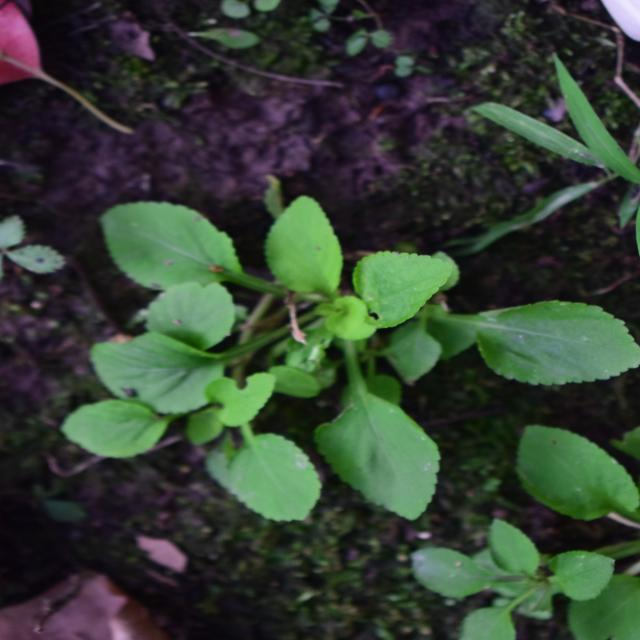Viola: (133, 91, 430, 473)
